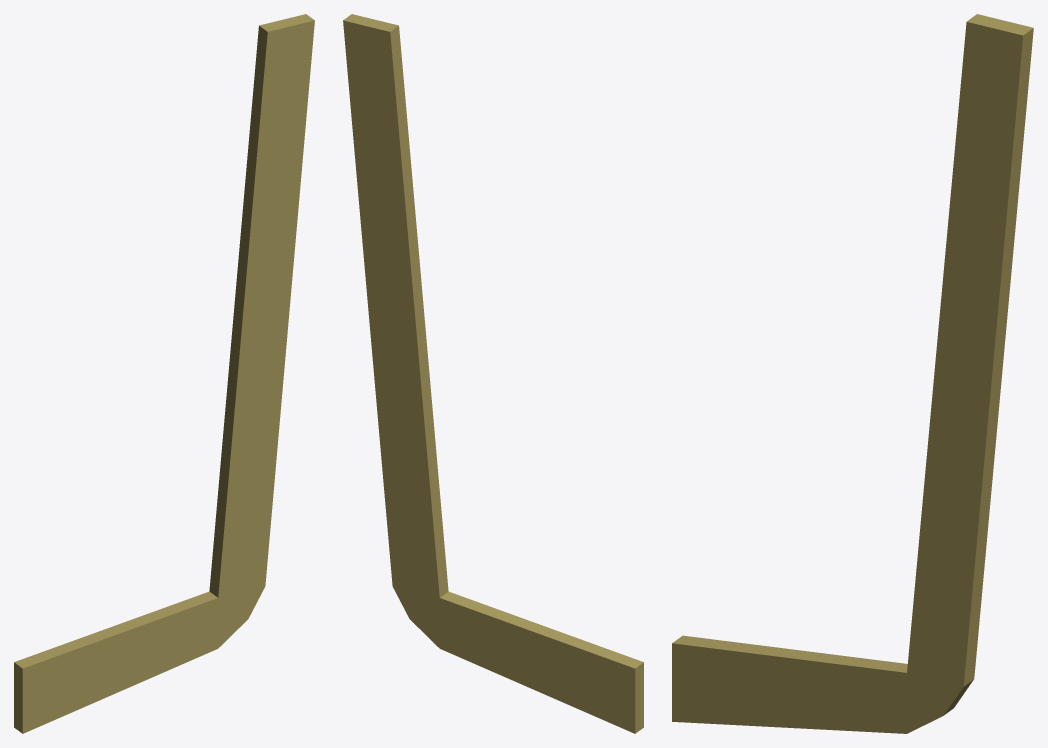
Rendered from Stick.gltf.
The picture shows the model from 3 angles, left to right: view 1: azimuth 30°, elevation 25°; view 2: azimuth 150°, elevation 25°; view 3: azimuth 330°, elevation 25°; orthographic projection. The views are drawn at different scales.
Parts seen in each view (by area): view 1: Stick; view 2: Stick; view 3: Stick.
Boxes of the visible parts, x1,y1,x2,y2 form: Stick: (14,14,314,733); Stick: (343,14,643,733); Stick: (672,14,1033,733).
Size of the model in its own units: 3.5 by 7.35 by 0.1827.
